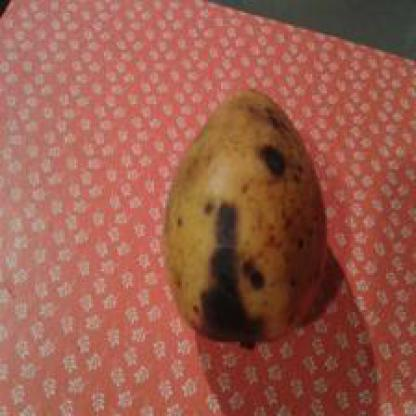mango_rotten: (162, 87, 324, 351)
